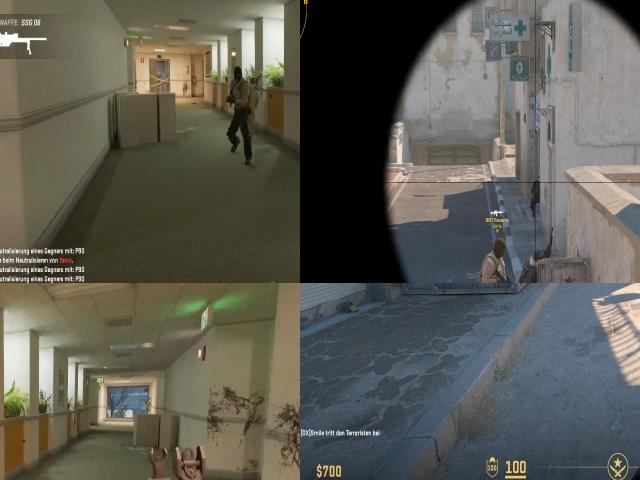CT: (518, 250, 537, 283), (530, 175, 540, 216)
CT-Head: (533, 249, 544, 259), (536, 176, 540, 182)
T: (474, 236, 516, 283), (227, 62, 253, 136)
T-Head: (230, 65, 246, 85), (494, 239, 504, 256)
